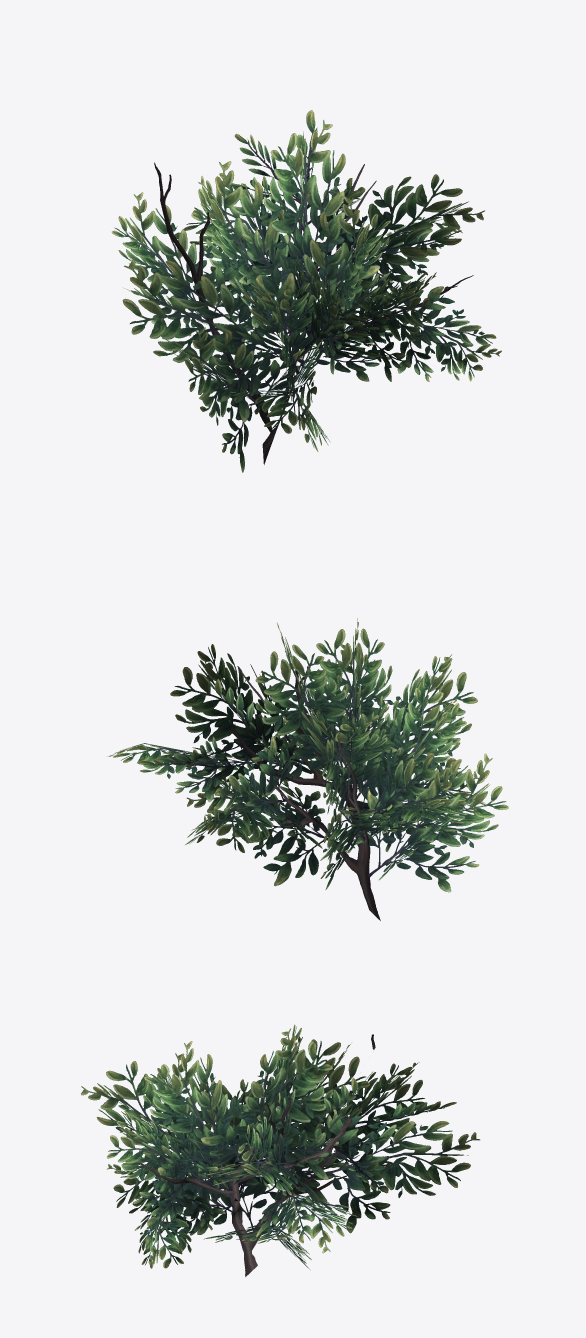
Rendered from 6sm_widebush_a01.obj.
3 renders of one model, top to bottom at view 1: azimuth 30°, elevation 25°; view 2: azimuth 150°, elevation 25°; view 3: azimuth 270°, elevation 25°, orthographic. The views are drawn at different scales.
Visible parts, largest first — view 1: 6SM_WIDEBUSH_A010; view 2: 6SM_WIDEBUSH_A010; view 3: 6SM_WIDEBUSH_A010.
Boxes of the visible parts, x1,y1,x2,y2 form: 6SM_WIDEBUSH_A010: (111, 110, 501, 472); 6SM_WIDEBUSH_A010: (107, 618, 508, 920); 6SM_WIDEBUSH_A010: (81, 1024, 479, 1276).
Bounding box in the file's own units: 7.07 × 5.31 × 7.3.
1 material, 1 textured.
